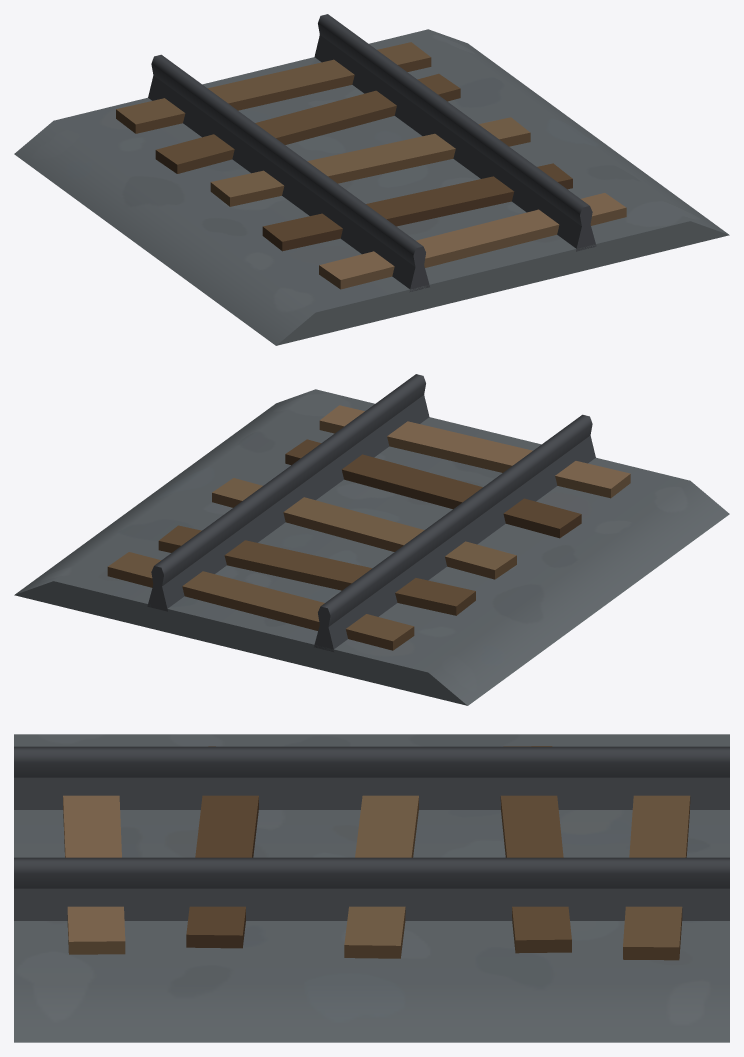
Rendered from Railroad_A02.fbx.
The picture shows the model from 3 angles, top to bottom: view 1: azimuth 30°, elevation 25°; view 2: azimuth 150°, elevation 25°; view 3: azimuth 270°, elevation 25°; orthographic projection. The views are drawn at different scales.
Visible parts, largest first — view 1: Railroad_A02; view 2: Railroad_A02; view 3: Railroad_A02.
Boxes of the visible parts, left/top/right/bottom form: Railroad_A02: left=14, top=14, right=729, bottom=345; Railroad_A02: left=14, top=374, right=729, bottom=705; Railroad_A02: left=14, top=734, right=729, bottom=1042.
Size of the model in its own units: 400 by 53.47 by 400.
1 material, 1 textured.
